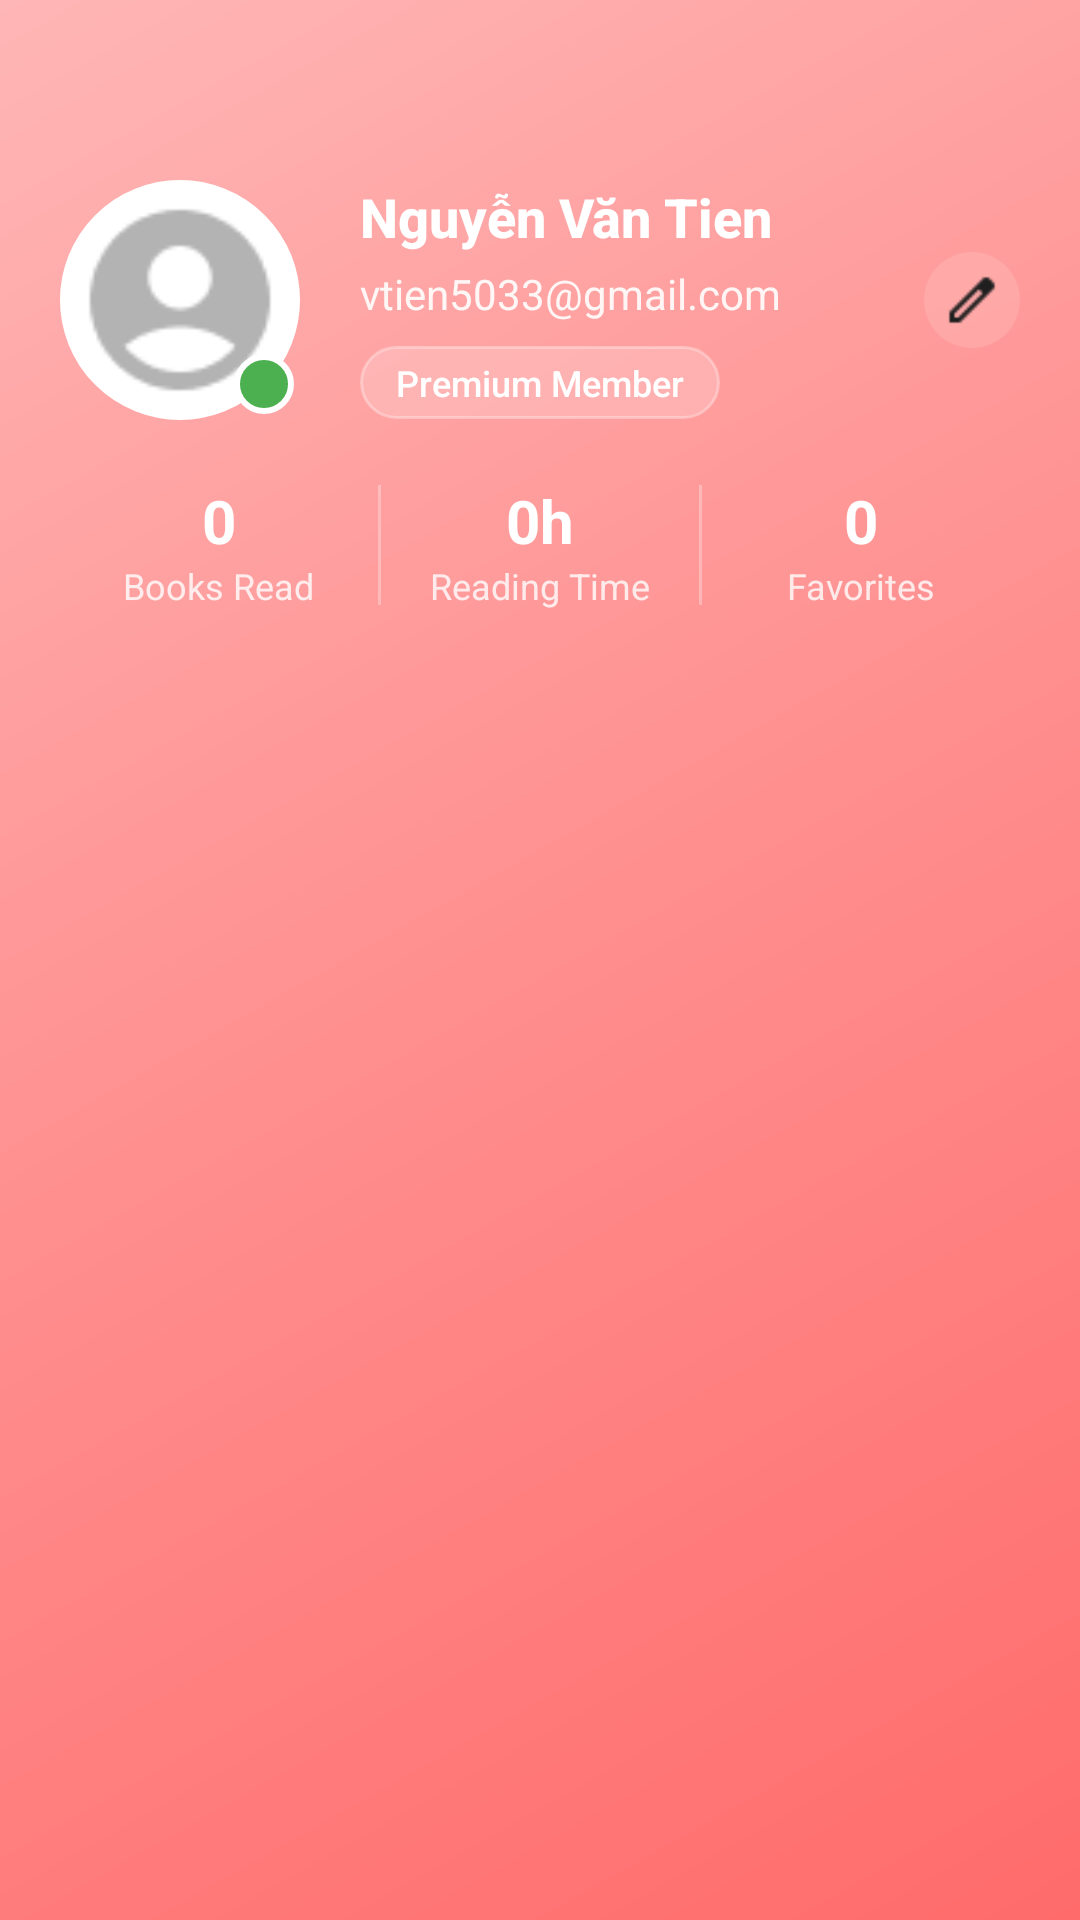

Icon bounding boxes for this 1080×1920 phone screenshot, format (left=x1, top=y1, right=x2, bottom=y2):
Edit profile: (left=924, top=252, right=1020, bottom=348)
